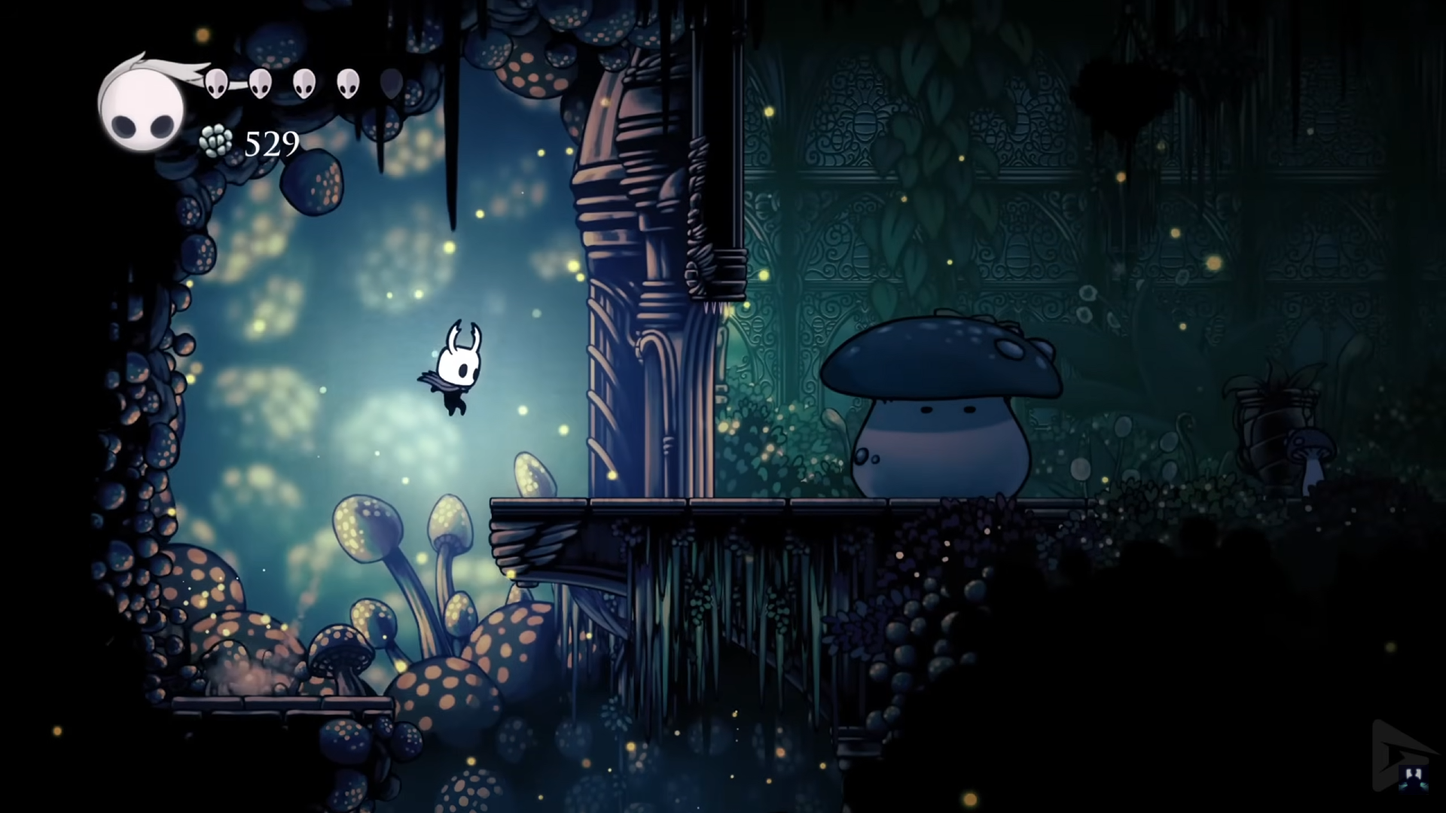HK: (423, 315, 487, 421)
